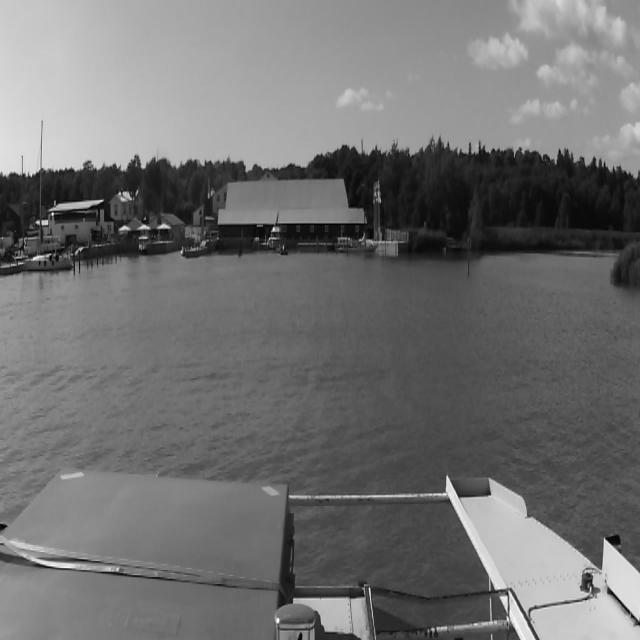buoy: (466, 236, 470, 278)
ship: (18, 120, 72, 276), (339, 139, 377, 257), (268, 213, 282, 251)
